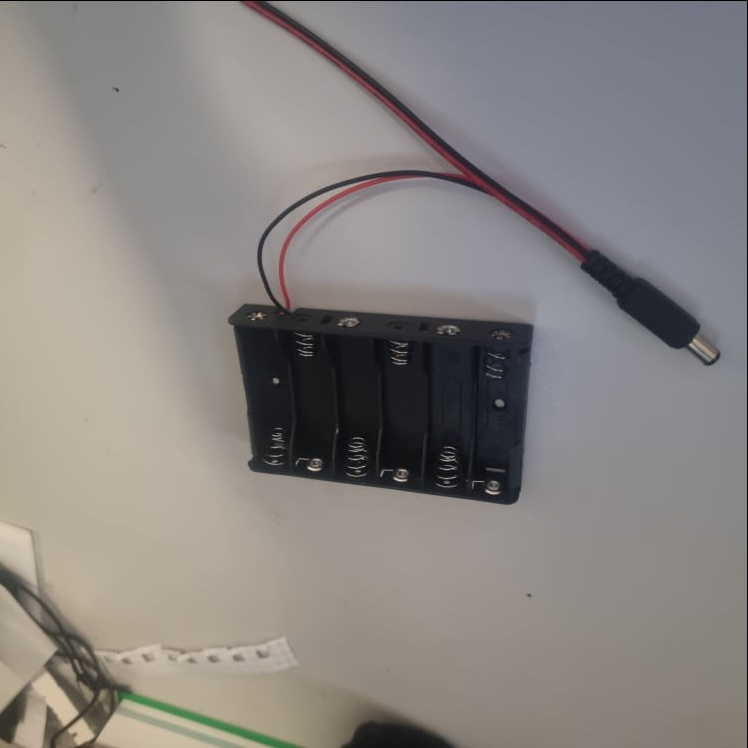BATTERY BOX: (227, 300, 538, 505)
